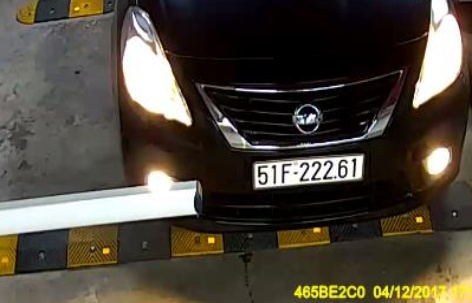plate: (251, 153, 366, 191)
